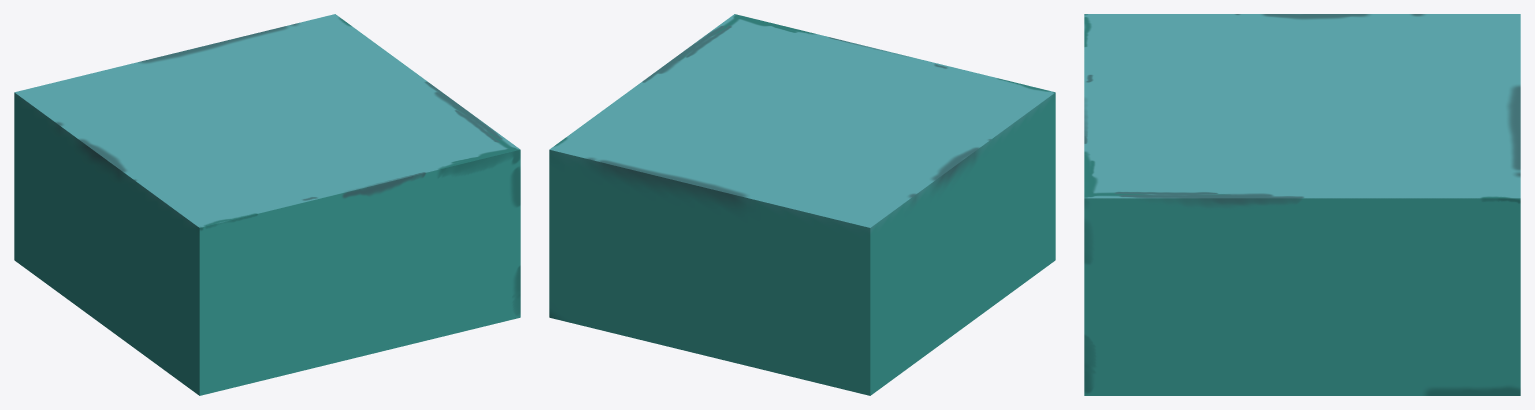
Rendered from Level2_Moving1.fbx.
3 views of the same model, side by side, from view 1: azimuth 30°, elevation 25°; view 2: azimuth 150°, elevation 25°; view 3: azimuth 270°, elevation 25° (orthographic). The views are drawn at different scales.
Parts seen in each view (by area): view 1: MovingPiece1; view 2: MovingPiece1; view 3: MovingPiece1.
Boxes of the visible parts, bbox=[...] form: MovingPiece1: bbox=[14, 14, 520, 395]; MovingPiece1: bbox=[549, 14, 1055, 395]; MovingPiece1: bbox=[1084, 14, 1520, 395].
Bounding box in the file's own units: 2 × 1 × 2.
Materials: 1 (1 with a texture image).
